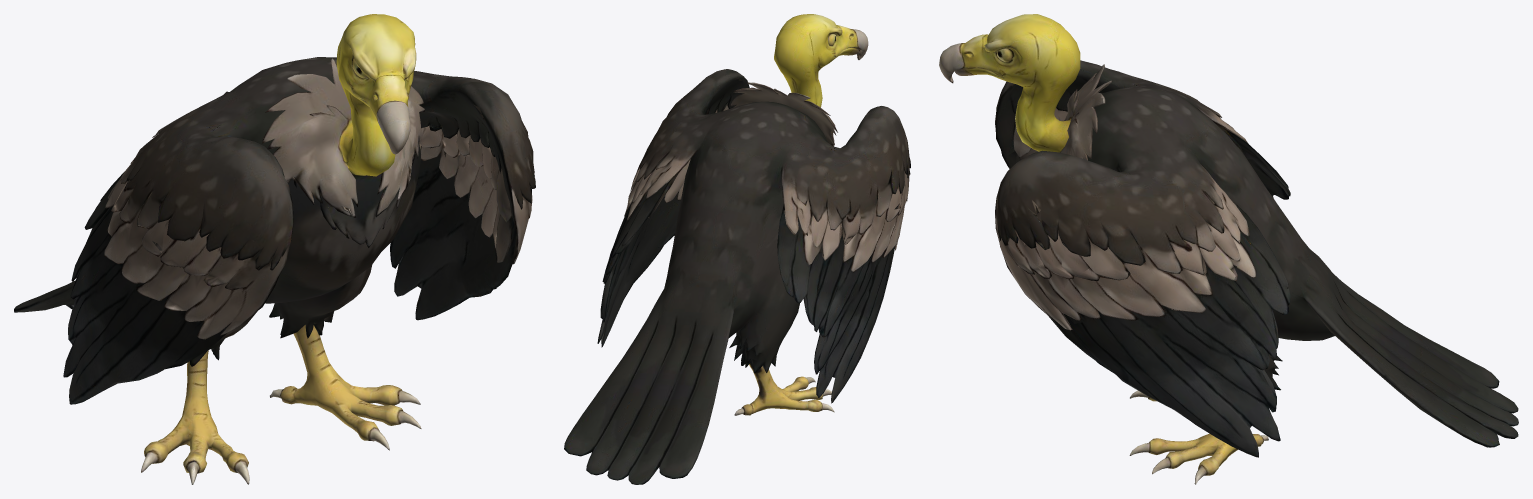
The picture shows the model from 3 angles, left to right: view 1: azimuth 30°, elevation 25°; view 2: azimuth 150°, elevation 25°; view 3: azimuth 270°, elevation 25°; orthographic projection. The views are drawn at different scales.
Parts seen in each view (by area): view 1: geometry_0; view 2: geometry_0; view 3: geometry_0.
Boxes of the visible parts, left/top/right/bottom form: geometry_0: left=14, top=14, right=535, bottom=484; geometry_0: left=564, top=14, right=910, bottom=484; geometry_0: left=939, top=14, right=1518, bottom=484.
Size of the model in its own units: 0.5811 by 0.7432 by 0.9536.
Materials: 1 (1 with a texture image).
